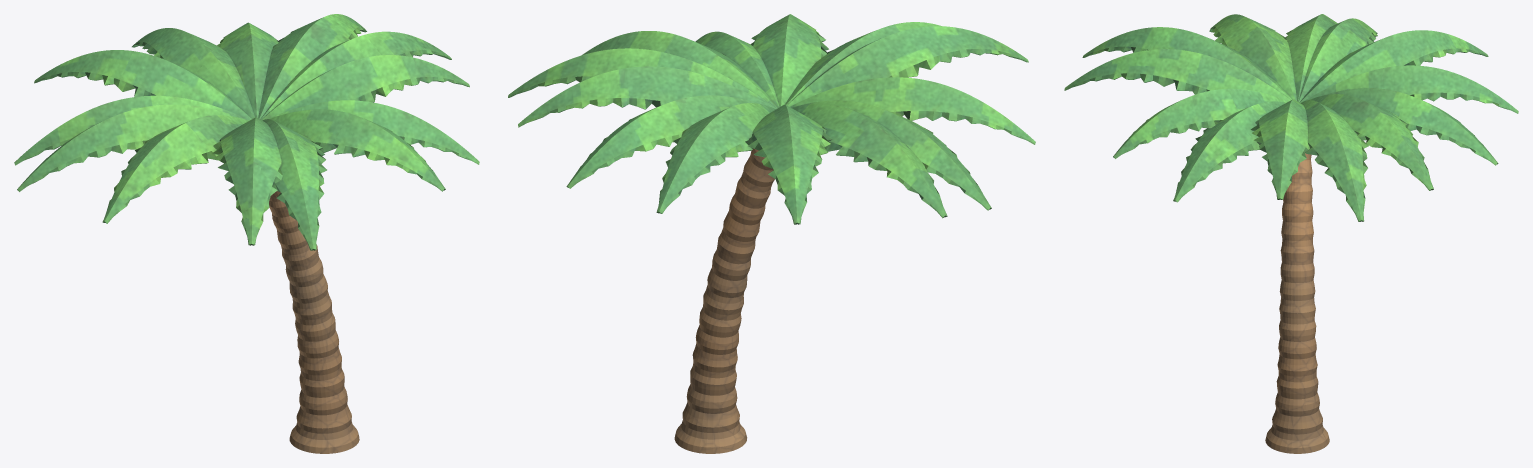
The model's file is WM_Palm_A.fbx.
3 renders of one model, left to right at view 1: azimuth 30°, elevation 25°; view 2: azimuth 150°, elevation 25°; view 3: azimuth 270°, elevation 25°, orthographic. The views are drawn at different scales.
Parts seen in each view (by area): view 1: WM_Palm_A_LOD0; view 2: WM_Palm_A_LOD0; view 3: WM_Palm_A_LOD0.
Boxes of the visible parts, x1,y1,x2,y2 form: WM_Palm_A_LOD0: [14, 14, 479, 453]; WM_Palm_A_LOD0: [508, 14, 1035, 453]; WM_Palm_A_LOD0: [1064, 14, 1518, 453].
Size of what is drawn, in the model's own units: 3.67 by 2.98 by 3.49.
